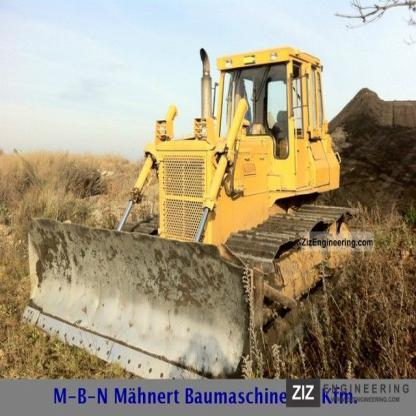bull_dozer/loader/grader: (23, 26, 390, 377)
